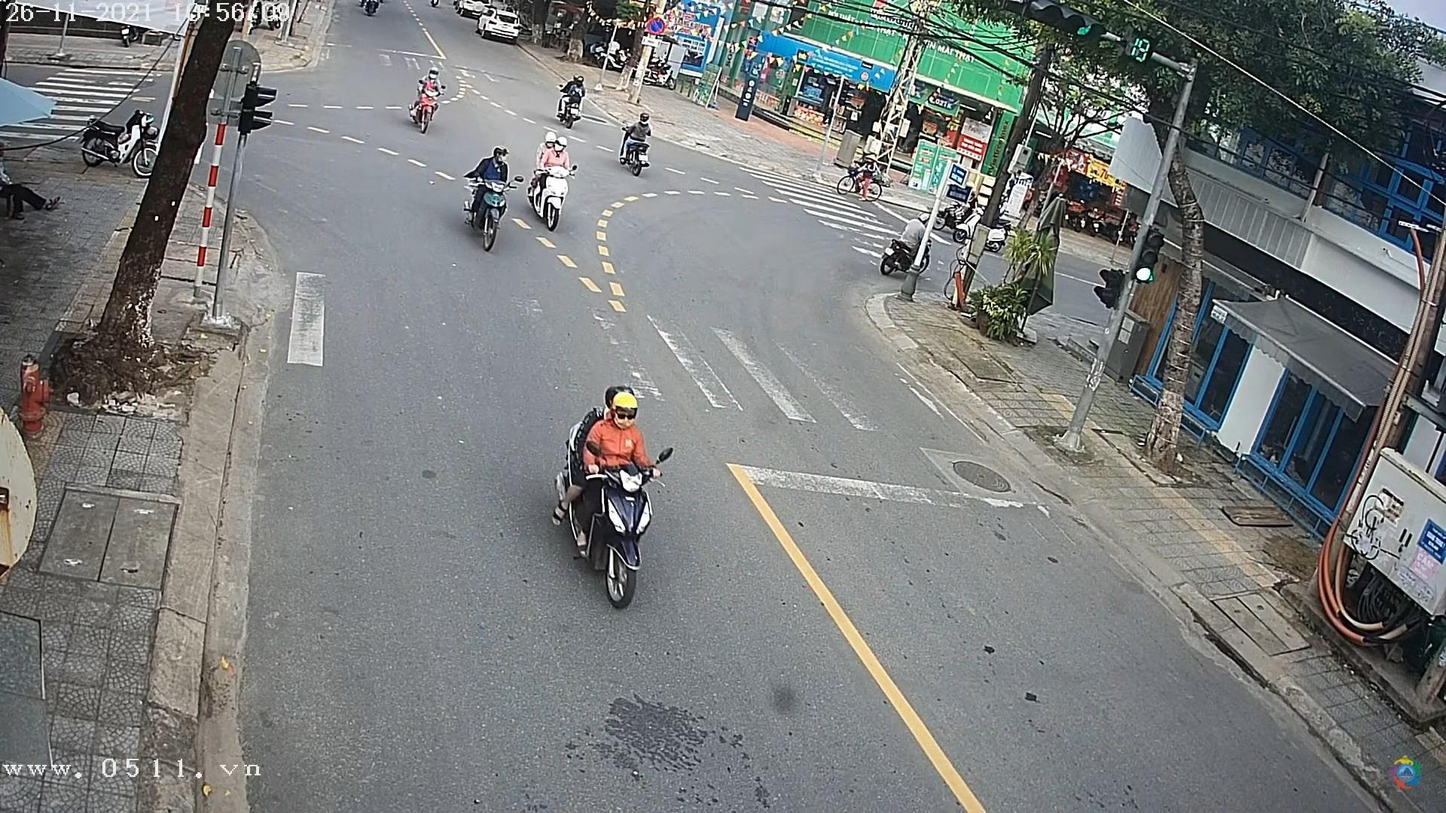motorbike: (554, 403, 668, 609), (465, 168, 519, 256), (526, 168, 570, 232), (409, 79, 444, 138)
